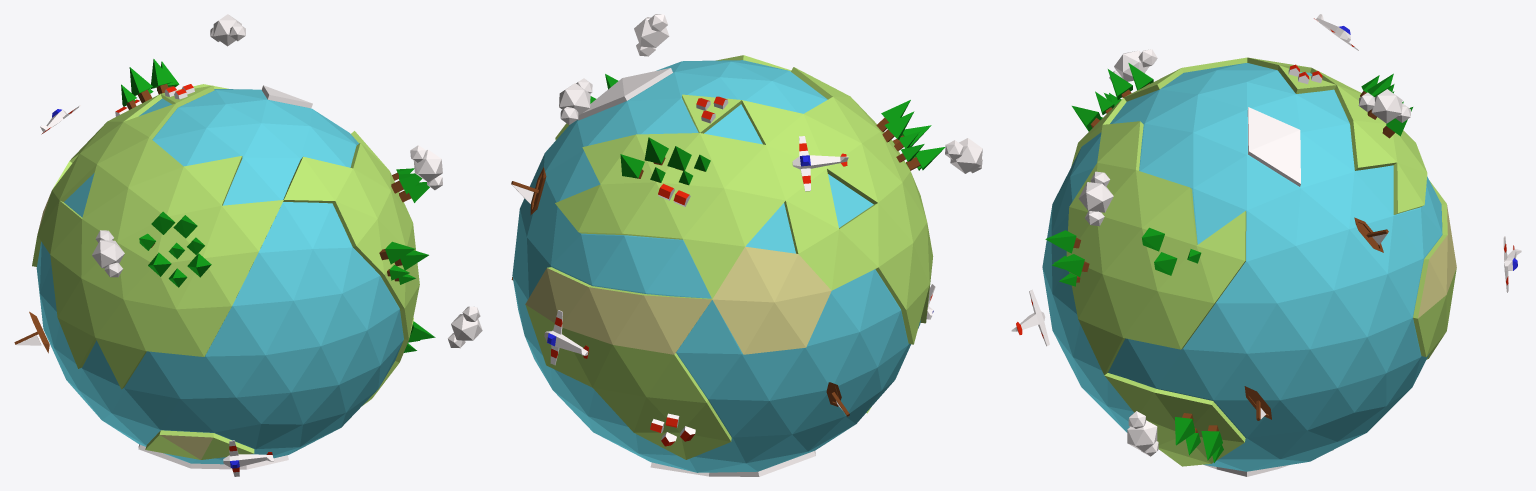
Rendered from earth.fbx.
3 renders of one model, left to right at view 1: azimuth 30°, elevation 25°; view 2: azimuth 150°, elevation 25°; view 3: azimuth 270°, elevation 25°, orthographic. The views are drawn at different scales.
Visible parts, largest first — view 1: Icosphere.001, Icosphere, Icosphere.005, Icosphere.003, Icosphere.004, Icosphere.002, Plane.039, Plane.026; view 2: Icosphere, Icosphere.001, Icosphere.002, Icosphere.003, Icosphere.005, Plane.027, Plane.038, Plane.028; view 3: Icosphere.001, Icosphere, Icosphere.003, Icosphere.002, Icosphere.004, Icosphere.005, Plane.039.
Boxes of the visible parts, <box> form: Icosphere.001: <box>36,89,403,464</box>; Icosphere: <box>32,84,419,469</box>; Icosphere.005: <box>92,230,124,277</box>; Icosphere.003: <box>410,145,442,190</box>; Icosphere.004: <box>448,306,482,348</box>; Icosphere.002: <box>210,14,245,46</box>; Plane.039: <box>223,440,274,476</box>; Plane.026: <box>14,311,49,353</box>; Icosphere: <box>525,55,933,476</box>; Icosphere.001: <box>512,60,920,472</box>; Icosphere.002: <box>559,78,592,124</box>; Icosphere.003: <box>634,14,669,56</box>; Icosphere.005: <box>945,138,982,173</box>; Plane.027: <box>792,136,848,191</box>; Plane.038: <box>544,310,588,365</box>; Plane.028: <box>511,167,546,215</box>; Icosphere.001: <box>1042,63,1442,471</box>; Icosphere: <box>1066,57,1456,476</box>; Icosphere.003: <box>1078,171,1113,226</box>; Icosphere.002: <box>1358,89,1410,123</box>; Icosphere.004: <box>1127,411,1158,456</box>; Icosphere.005: <box>1109,49,1157,81</box>; Plane.039: <box>1011,289,1049,346</box>.
Bounding box in the file's own units: 493 × 450 × 521.
